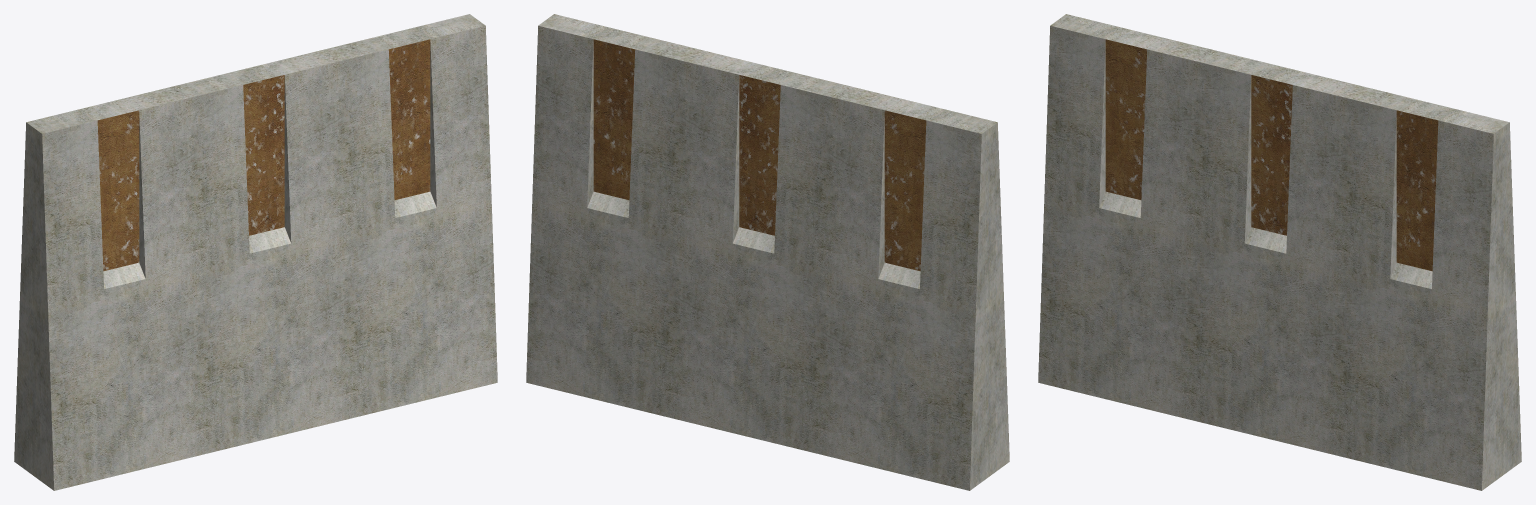
File: mun_all_military_wall_weak_rebl_s01_l1.fbx
3 views of the same model, side by side, from view 1: azimuth 30°, elevation 25°; view 2: azimuth 150°, elevation 25°; view 3: azimuth 330°, elevation 25° (orthographic).
Parts seen in each view (by area): view 1: mesh_node; view 2: mesh_node; view 3: mesh_node.
Boxes of the visible parts, x1,y1,x2,y2 form: mesh_node: (14,14,497,490); mesh_node: (526,14,1009,490); mesh_node: (1038,14,1521,490).
Size of the model in its own units: 8 by 6 by 1.25.
